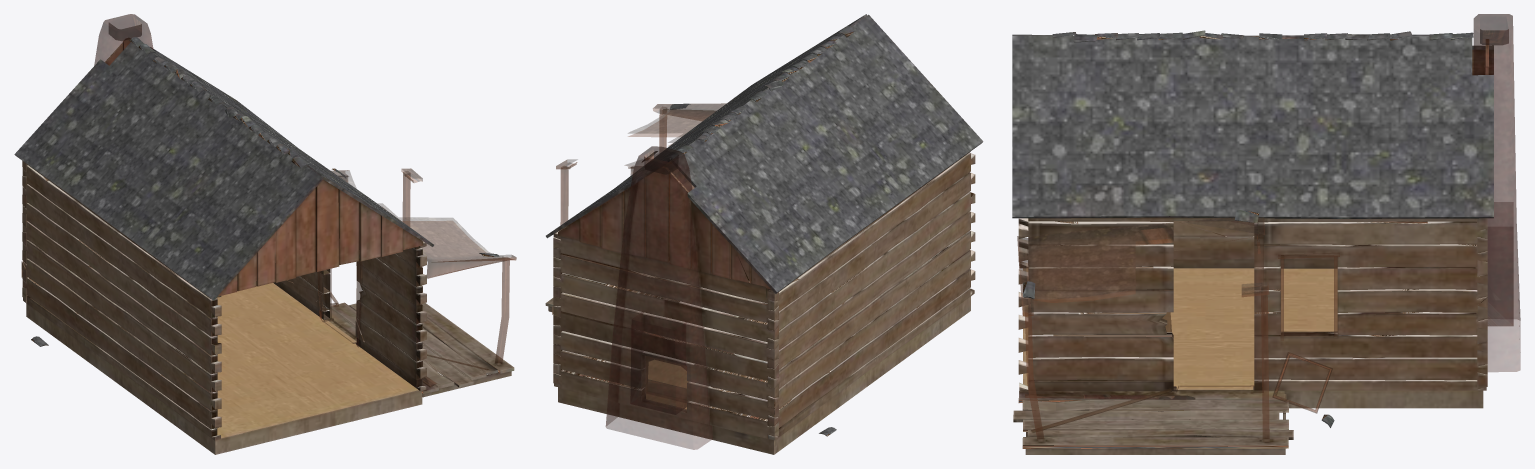
File: ruined-cabin.panes-v1.lod0.glb
3 views of the same model, side by side, from view 1: azimuth 30°, elevation 25°; view 2: azimuth 150°, elevation 25°; view 3: azimuth 270°, elevation 25° (orthographic). The views are drawn at different scales.
Visible parts, largest first — view 1: Foundation.003_2.001_0, WallShortRight.004_1.001_0, OutRoof.003_3.001_0; view 2: WallShortRight.004_1.001_0, Foundation.003_2.001_0, OutRoof.003_3.001_0; view 3: Foundation.003_2.001_0, WallShortRight.004_1.001_0, OutRoof.003_3.001_0.
Part boxes in pixels (box(x1,y1,x2,y2)): Foundation.003_2.001_0: box(14, 37, 514, 454); WallShortRight.004_1.001_0: box(21, 38, 426, 440); OutRoof.003_3.001_0: box(94, 14, 516, 387); WallShortRight.004_1.001_0: box(552, 151, 975, 440); Foundation.003_2.001_0: box(545, 14, 983, 454); OutRoof.003_3.001_0: box(556, 103, 726, 449); Foundation.003_2.001_0: box(1012, 30, 1493, 454); WallShortRight.004_1.001_0: box(1018, 39, 1489, 391); OutRoof.003_3.001_0: box(1017, 14, 1520, 441).
Size of the model in its own units: 5.37 by 4.23 by 5.98.
Materials: 3 (3 with a texture image).
